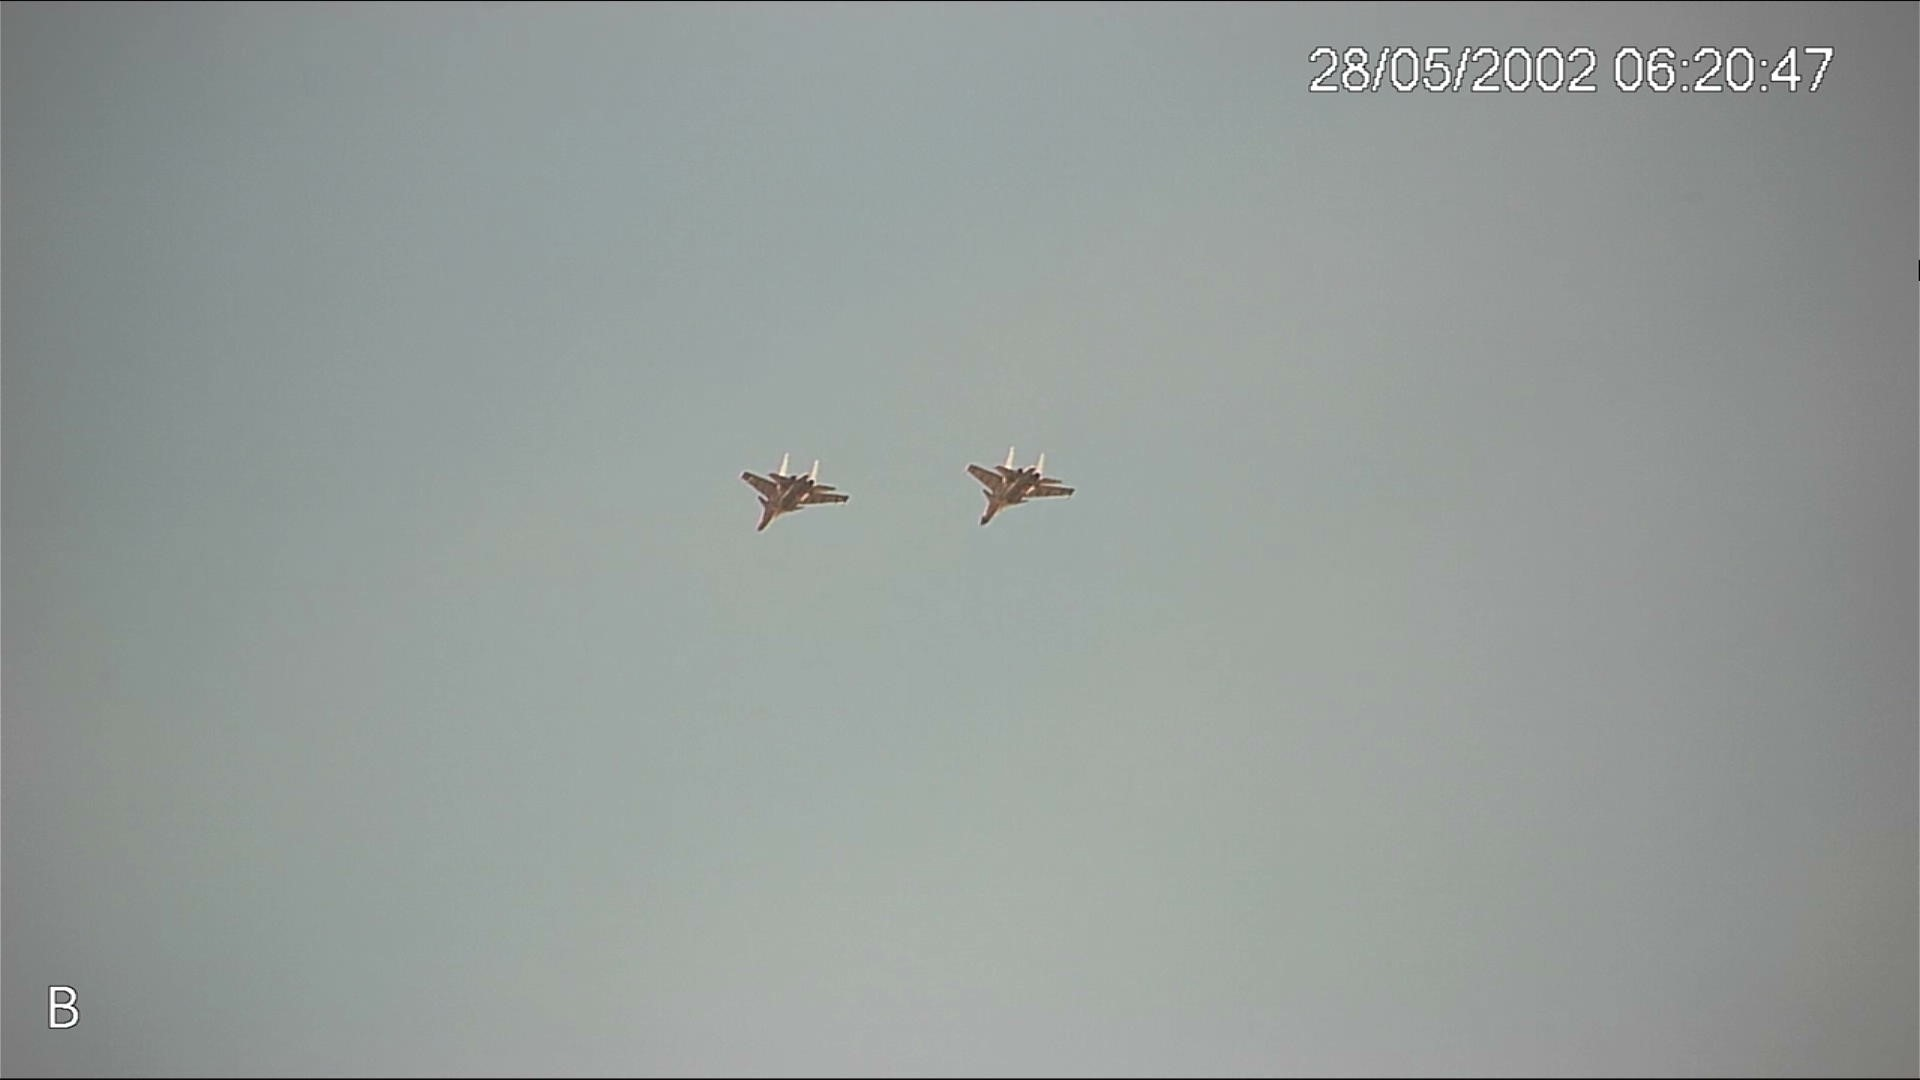SU_30: (735, 448, 855, 535), (965, 444, 1075, 531)
